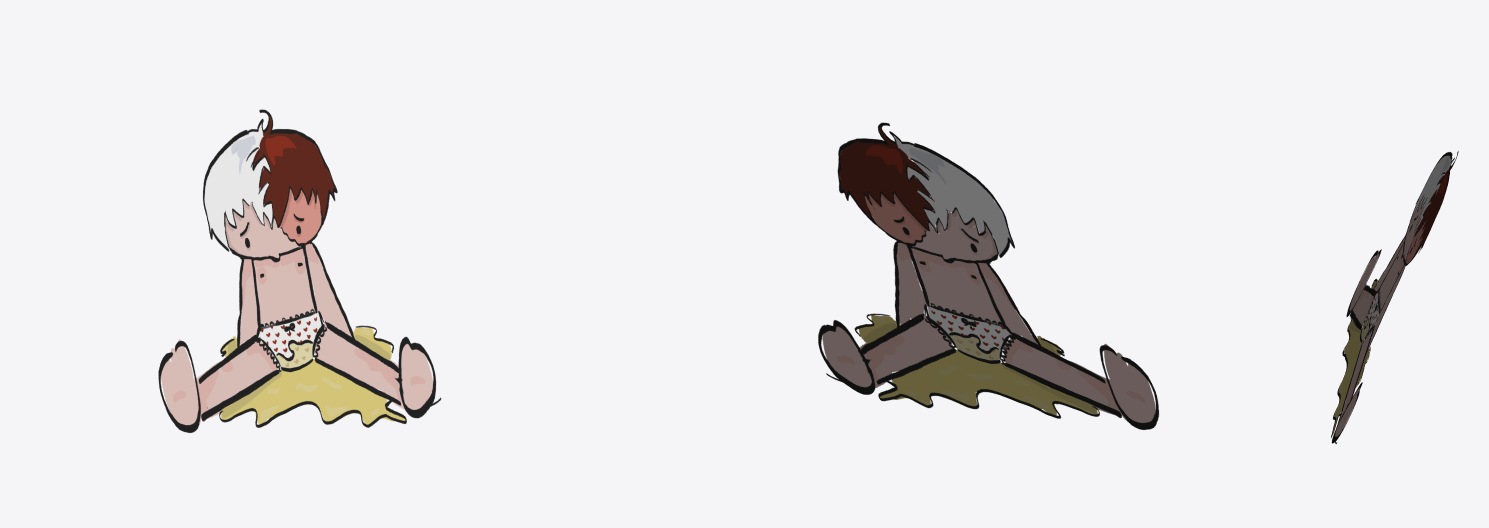
Rendered from shouto.gltf.
3 renders of one model, left to right at view 1: azimuth 30°, elevation 25°; view 2: azimuth 150°, elevation 25°; view 3: azimuth 270°, elevation 25°, orthographic. The views are drawn at different scales.
Visible parts, largest first — view 1: mesh_id26; view 2: mesh_id26; view 3: mesh_id26.
Part boxes in pixels (<box>): mesh_id26: <box>158,109,441,432</box>; mesh_id26: <box>818,122,1158,429</box>; mesh_id26: <box>1331,151,1458,443</box>.
Bounding box in the file's own units: 0.867 × 0.5917 × 0.2691.
Materials: 1 (1 with a texture image).
